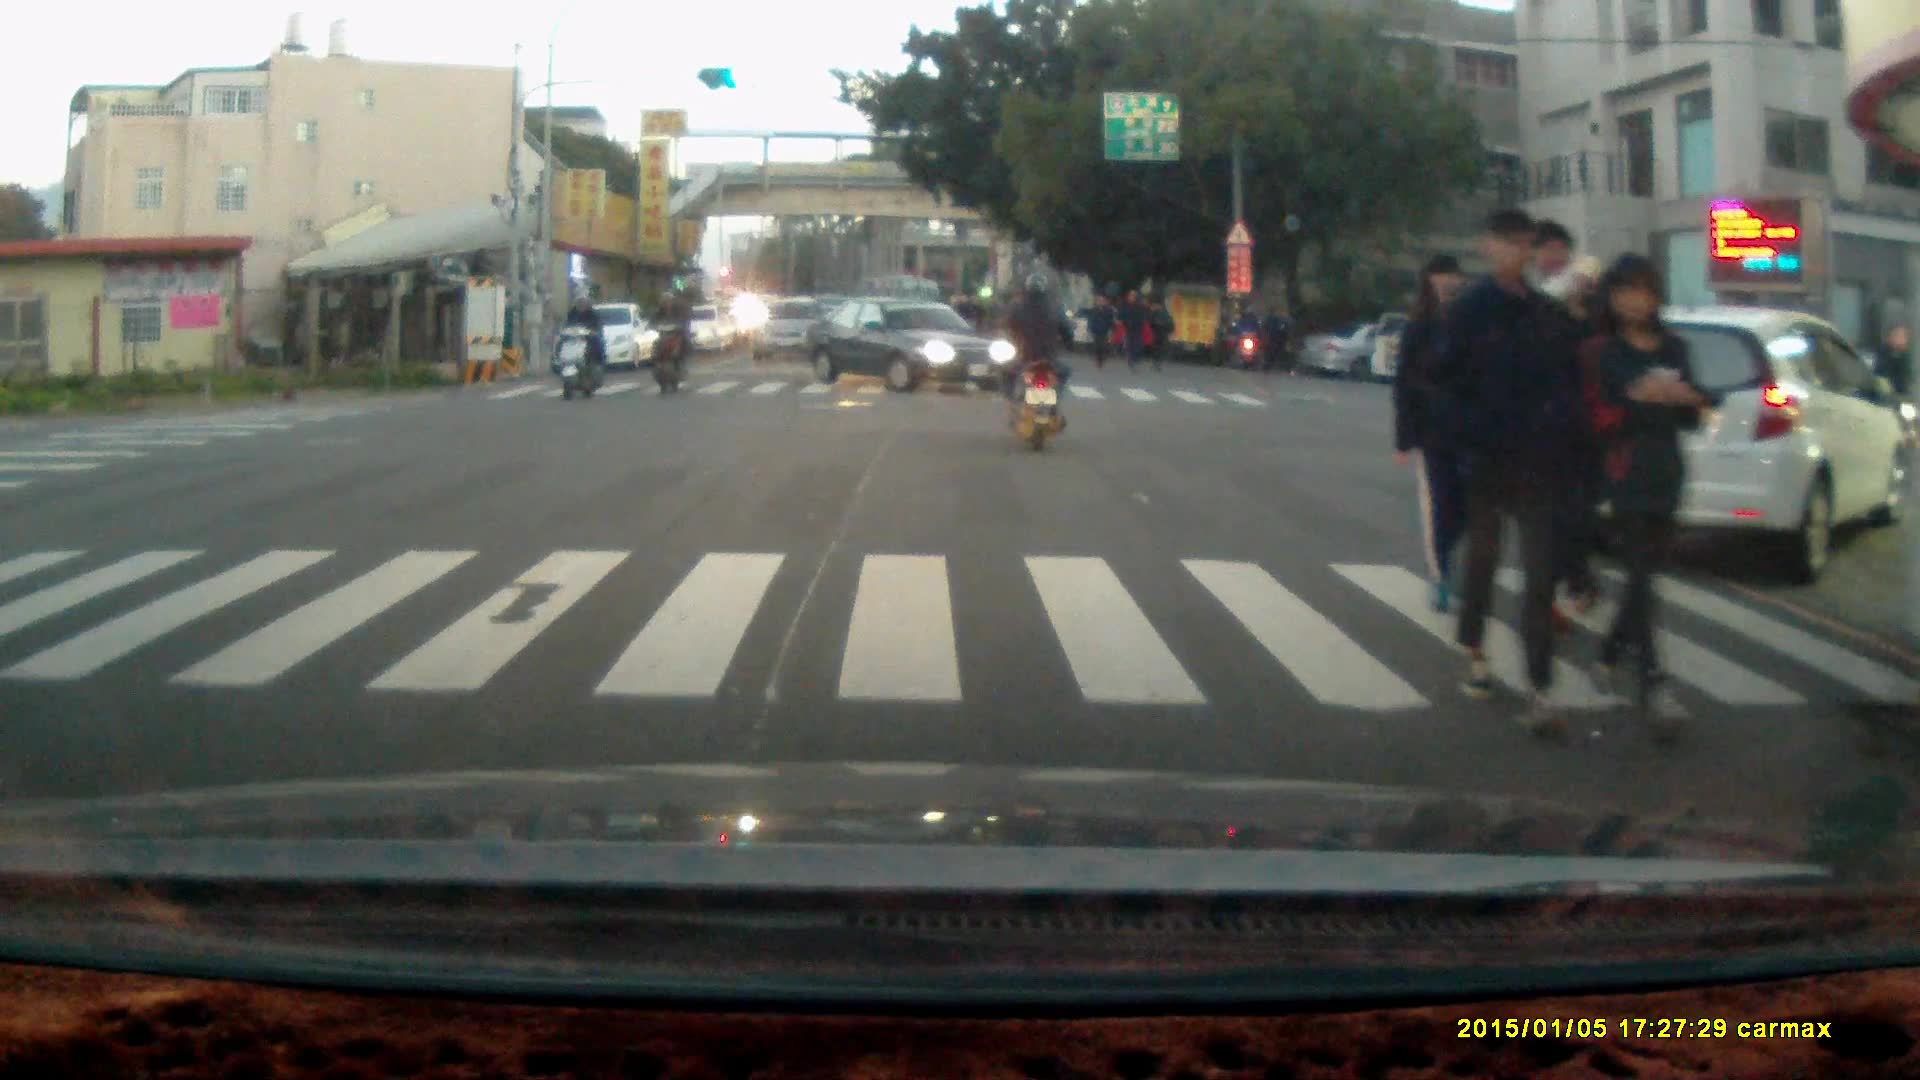pedestrian: (1426, 199, 1591, 742), (1579, 246, 1709, 745), (1392, 247, 1508, 614), (1140, 293, 1172, 374), (1115, 283, 1145, 372), (1084, 290, 1114, 371), (1256, 300, 1287, 377)
rider: (1002, 266, 1075, 451), (553, 284, 606, 399), (640, 283, 692, 392), (1225, 302, 1264, 367)
vehicle: (1560, 304, 1917, 596), (798, 289, 1020, 391), (1300, 317, 1465, 382), (556, 302, 659, 372), (748, 297, 833, 365)
